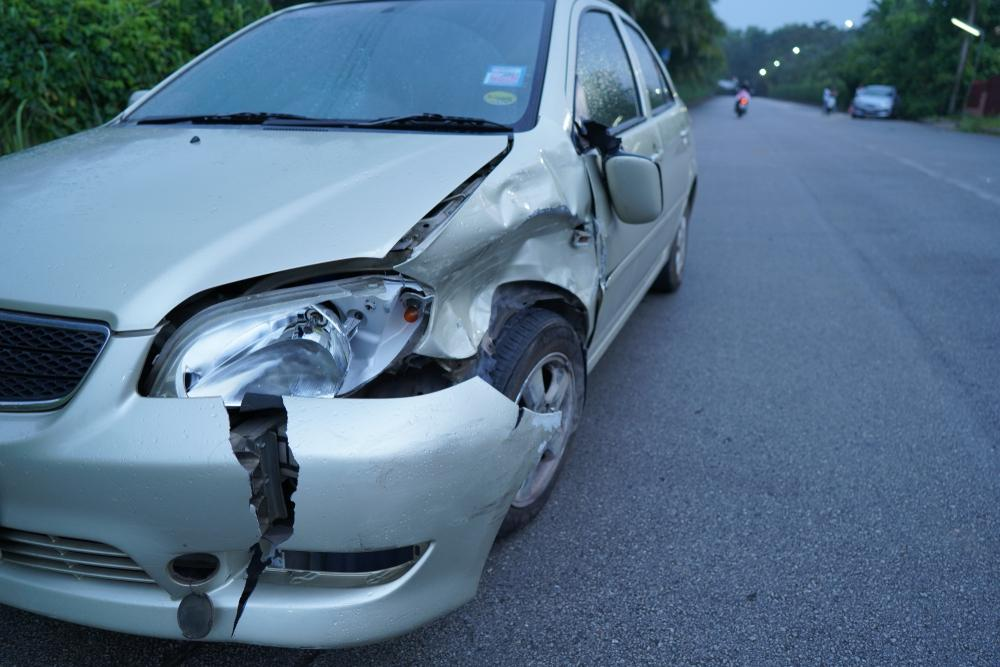crack: (221, 393, 301, 642), (512, 404, 525, 432)
dent: (433, 142, 594, 352)
lamp broken: (154, 276, 424, 397)
scratch: (469, 462, 518, 528)
